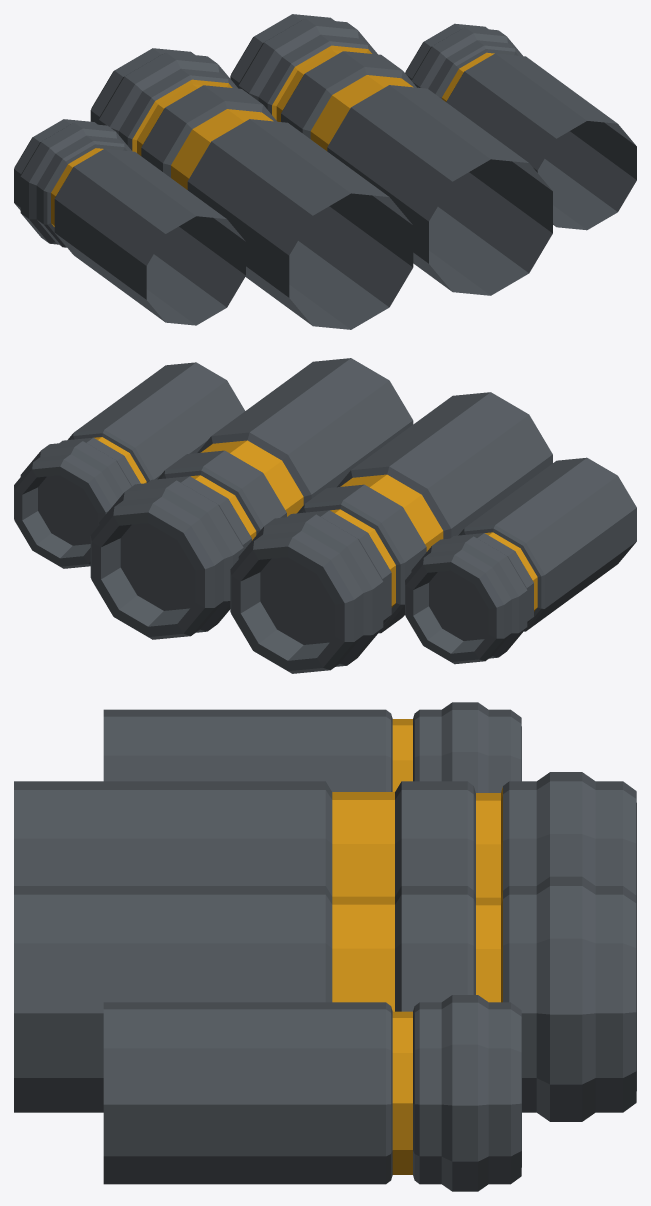
Rendered from Fighter_09_Thrusters_Yellow.fbx.
The picture shows the model from 3 angles, top to bottom: view 1: azimuth 30°, elevation 25°; view 2: azimuth 150°, elevation 25°; view 3: azimuth 270°, elevation 25°; orthographic projection. The views are drawn at different scales.
Parts seen in each view (by area): view 1: Fighter_09_Thrusters_Yellow; view 2: Fighter_09_Thrusters_Yellow; view 3: Fighter_09_Thrusters_Yellow.
Part boxes in pixels (x1,y1,x2,y2): Fighter_09_Thrusters_Yellow: (14,14,636,329); Fighter_09_Thrusters_Yellow: (14,358,636,673); Fighter_09_Thrusters_Yellow: (14,702,636,1191).
Size of the model in its own units: 343 by 97.08 by 242.
Materials: 2 (2 with a texture image).
